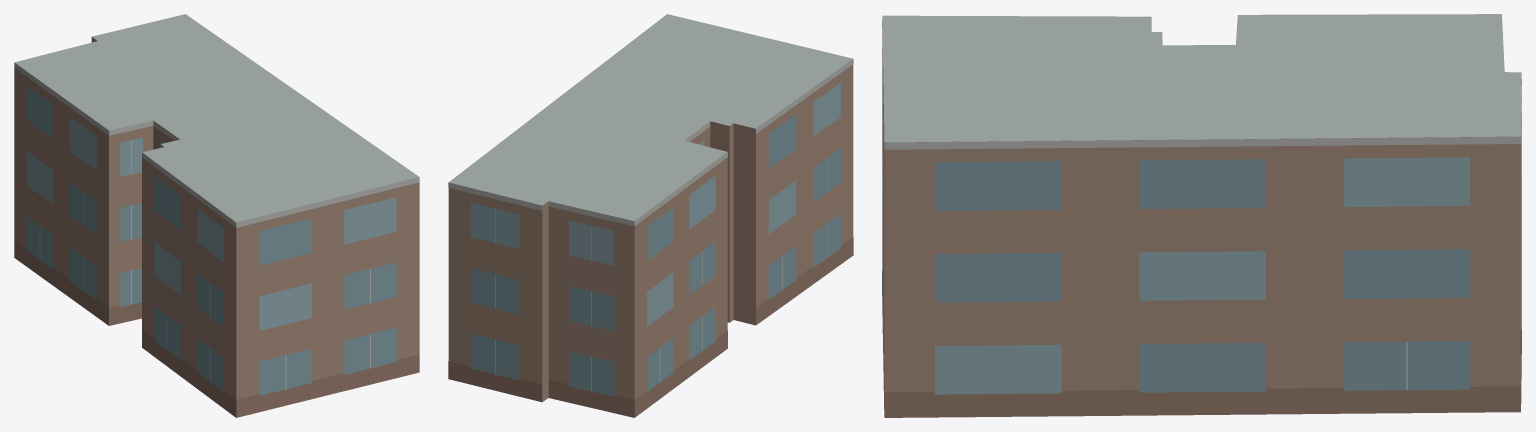
The model's file is survey-upis-32711468.glb.
3 renders of one model, left to right at view 1: azimuth 30°, elevation 25°; view 2: azimuth 150°, elevation 25°; view 3: azimuth 270°, elevation 25°, orthographic. The views are drawn at different scales.
Parts seen in each view (by area): view 1: survey-upis-32711468.tmp; view 2: survey-upis-32711468.tmp; view 3: survey-upis-32711468.tmp.
Part boxes in pixels (bbox=[...]): survey-upis-32711468.tmp: bbox=[14, 14, 419, 417]; survey-upis-32711468.tmp: bbox=[448, 14, 853, 417]; survey-upis-32711468.tmp: bbox=[882, 14, 1521, 417].
Size of the model in its own units: 9.16 by 9.15 by 19.26.
